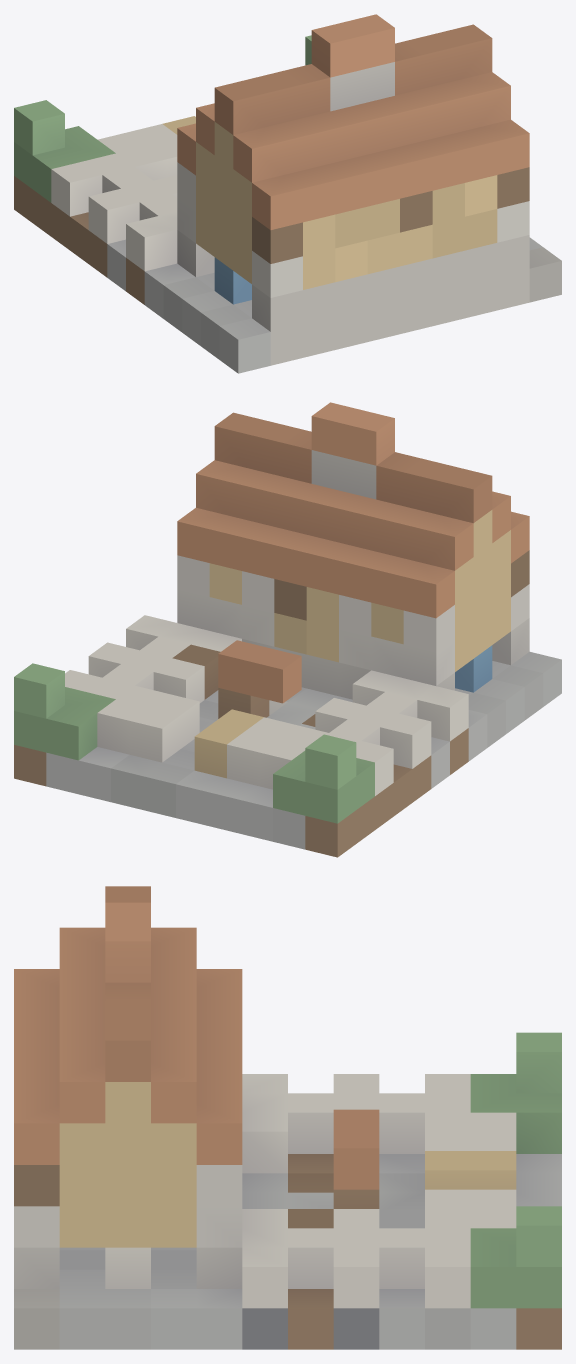
Rendered from market.l3.lite.glb.
3 renders of one model, top to bottom at view 1: azimuth 30°, elevation 25°; view 2: azimuth 150°, elevation 25°; view 3: azimuth 270°, elevation 25°, orthographic. The views are drawn at different scales.
Visible parts, largest first — view 1: market; view 2: market; view 3: market.
Boxes of the visible parts, x1,y1,x2,y2 form: market: (14,14,561,373); market: (14,402,561,857); market: (14,886,561,1349).
Bounding box in the file's own units: 5 × 4 × 6.
